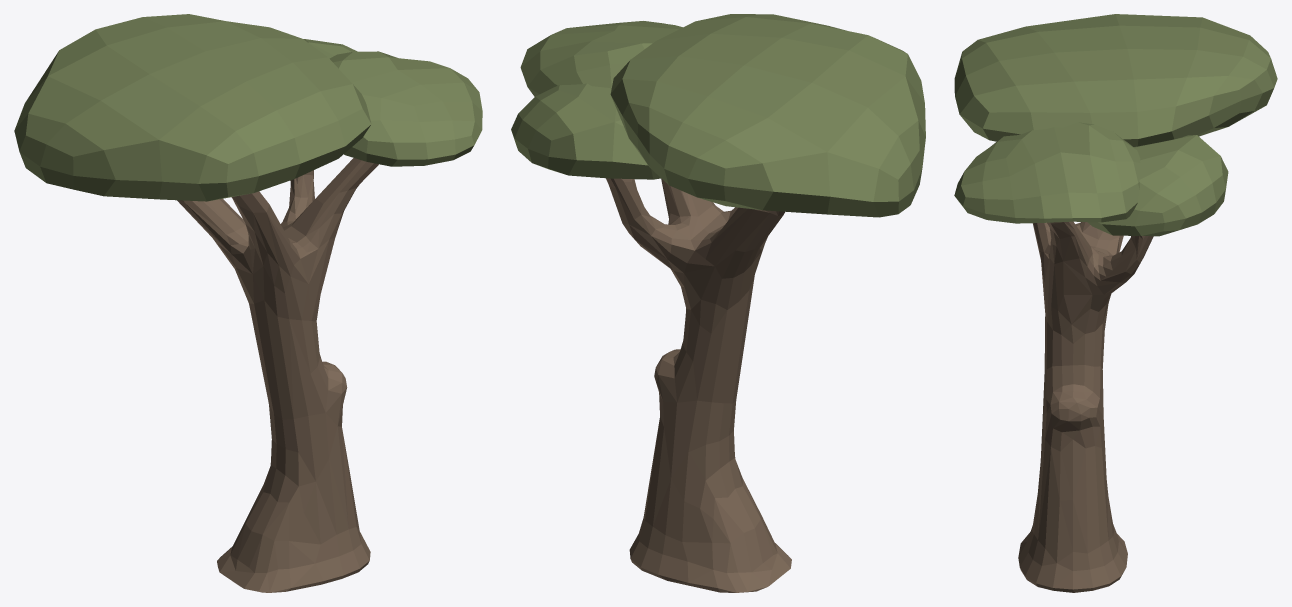
The model's file is tree-12.fbx.
3 renders of one model, left to right at view 1: azimuth 30°, elevation 25°; view 2: azimuth 150°, elevation 25°; view 3: azimuth 270°, elevation 25°, orthographic. The views are drawn at different scales.
Visible parts, largest first — view 1: Cube.025, Cube.066, Cube.073; view 2: Cube.025, Cube.066, Cube.072, Cube.073; view 3: Cube.025, Cube.066, Cube.073, Cube.072.
Boxes of the visible parts, bbox=[...] form: Cube.025: bbox=[14, 14, 371, 201]; Cube.066: bbox=[177, 158, 378, 592]; Cube.073: bbox=[329, 51, 482, 166]; Cube.025: bbox=[610, 14, 925, 217]; Cube.066: bbox=[606, 178, 791, 592]; Cube.072: bbox=[511, 83, 660, 179]; Cube.073: bbox=[520, 21, 682, 96]; Cube.025: bbox=[954, 14, 1277, 146]; Cube.066: bbox=[1018, 221, 1153, 592]; Cube.073: bbox=[954, 122, 1140, 223]; Cube.072: bbox=[1087, 135, 1228, 236].
Bounding box in the file's own units: 1501 × 1827 × 1099.
